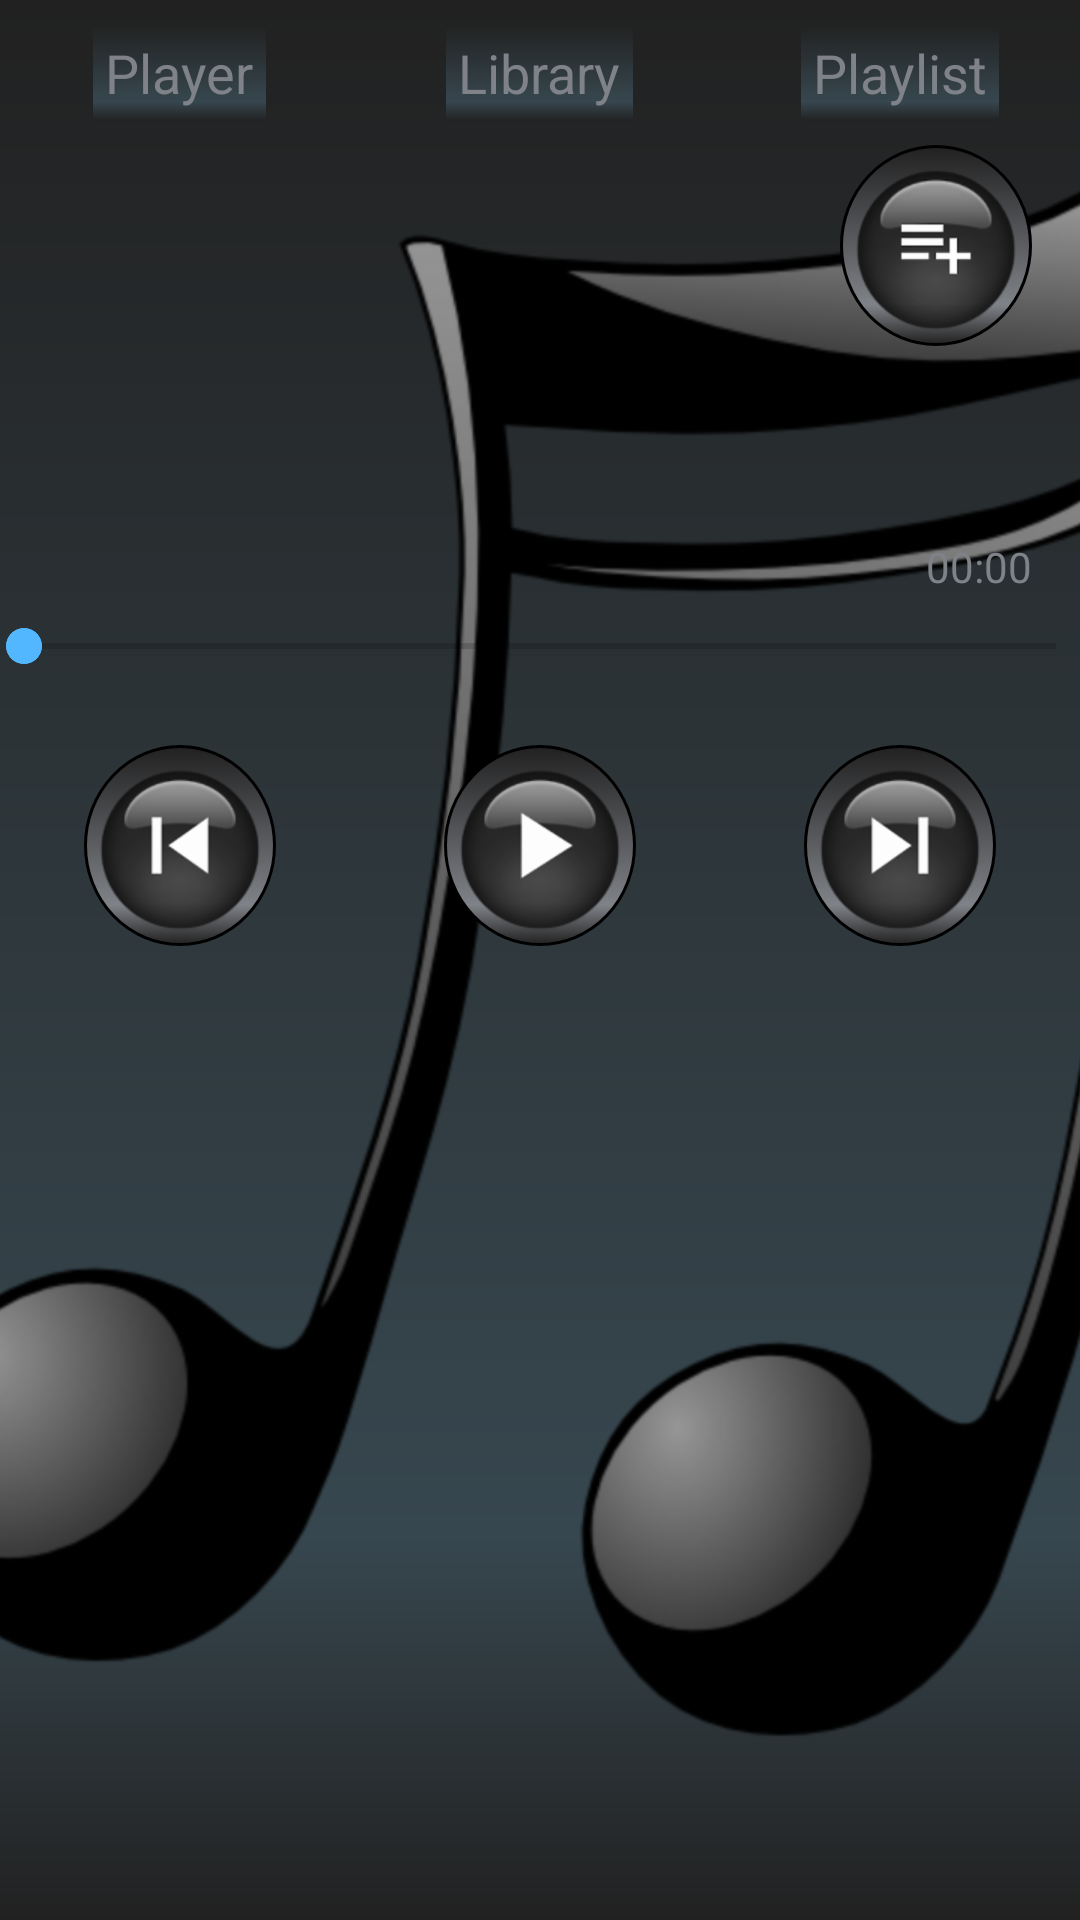

Icon bounding boxes for this 1080 x 1920 phone screenshot, format (x1, y1, x2, y2):
circle play: (444, 745, 636, 946)
circle skip next: (804, 745, 996, 946)
circle skip previous: (84, 745, 276, 946)
